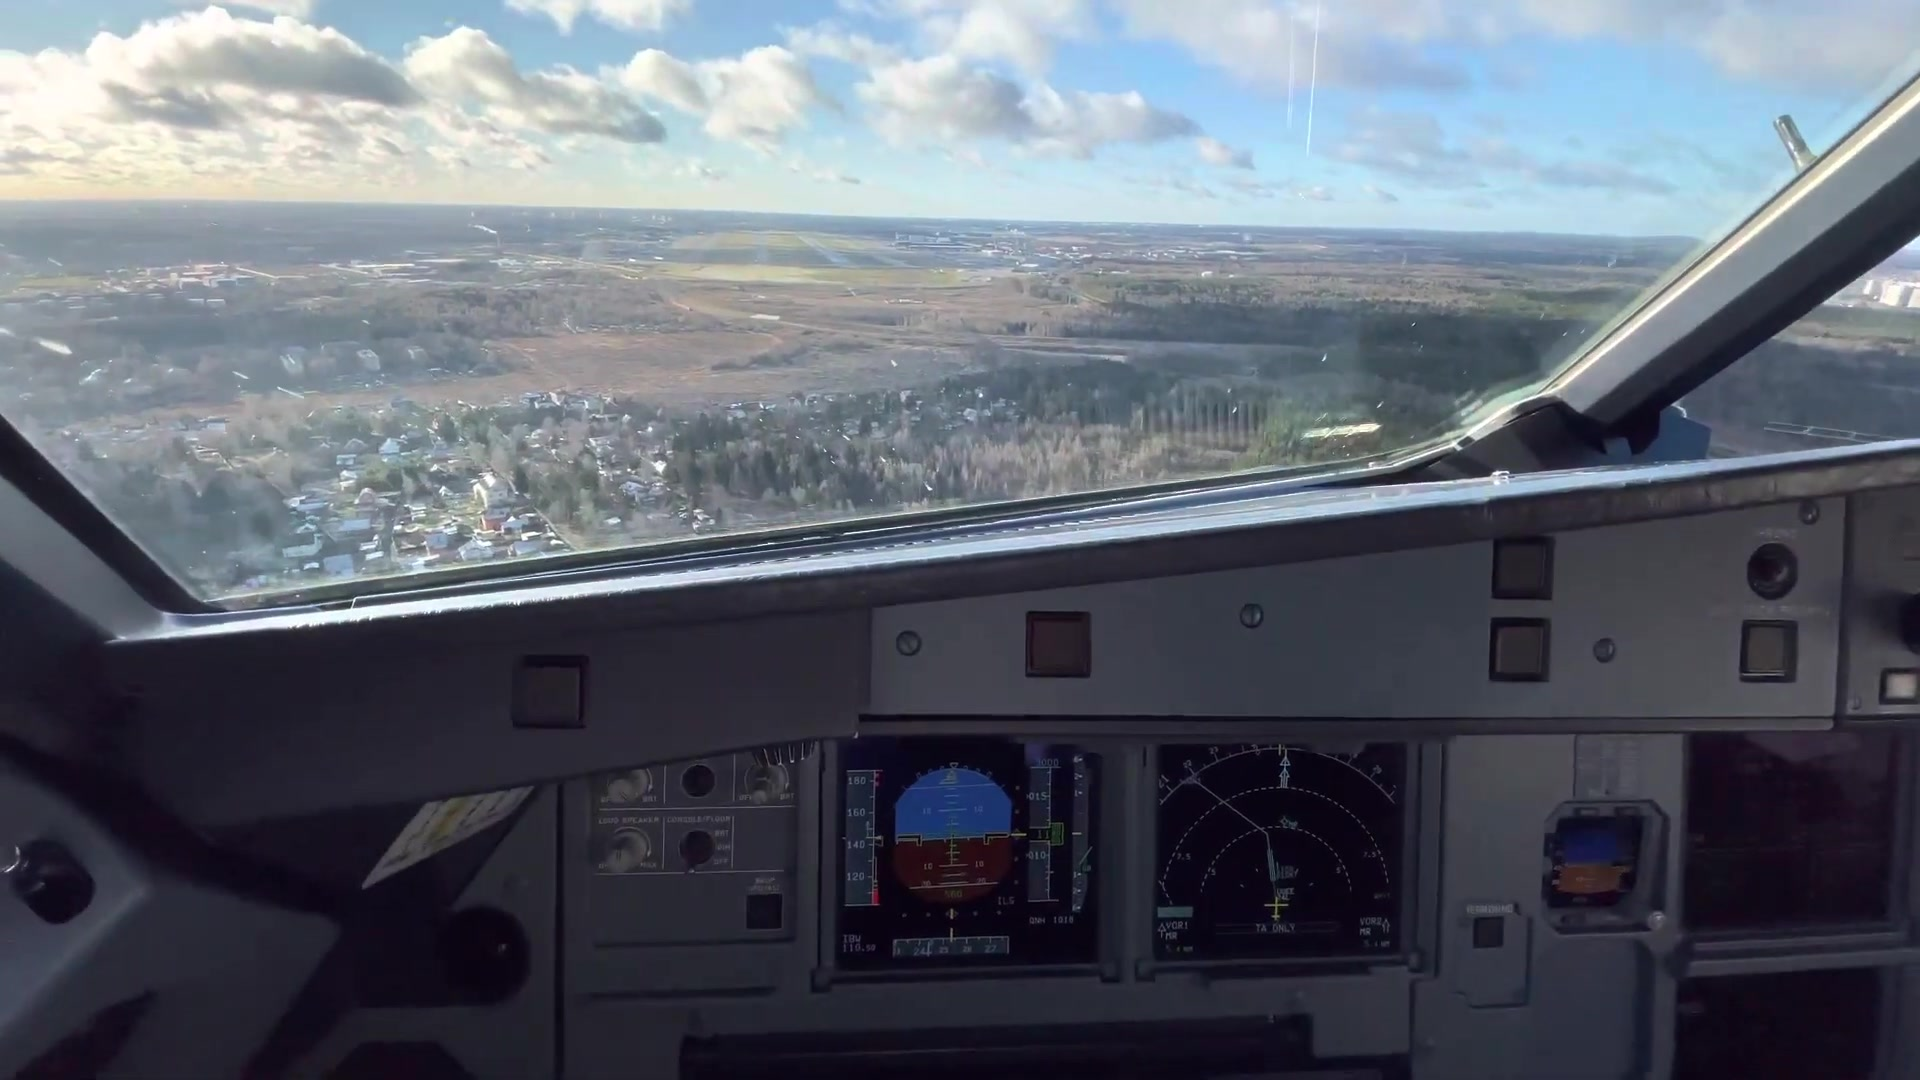runway: (798, 236, 857, 266), (749, 225, 773, 266)
